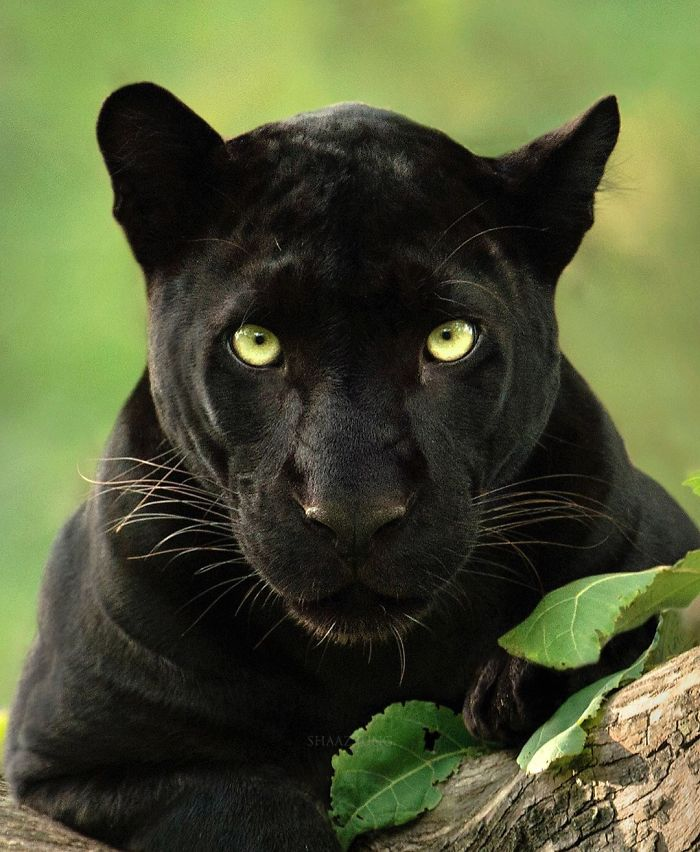panther: (30, 48, 700, 728)
